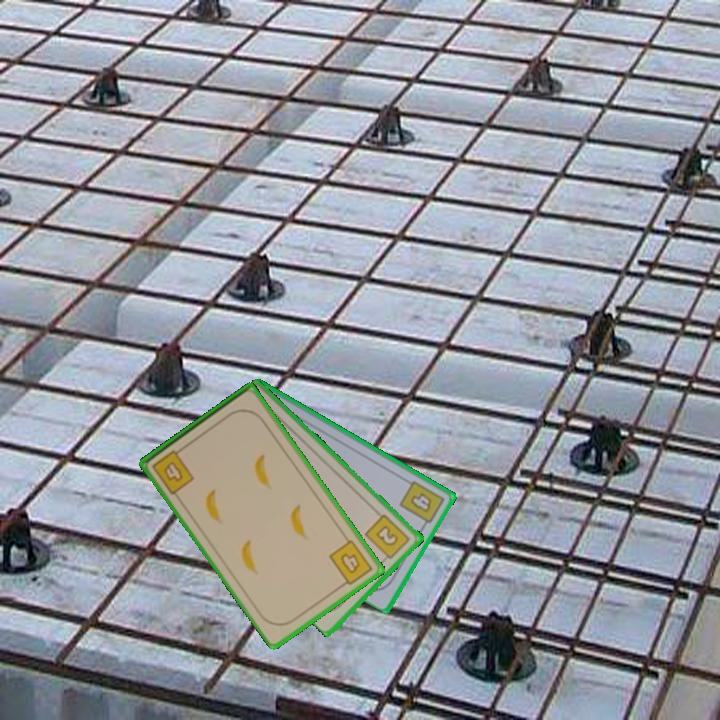2b: (362, 511, 413, 564)
4b: (396, 477, 447, 531), (325, 536, 376, 590), (149, 443, 197, 497)
